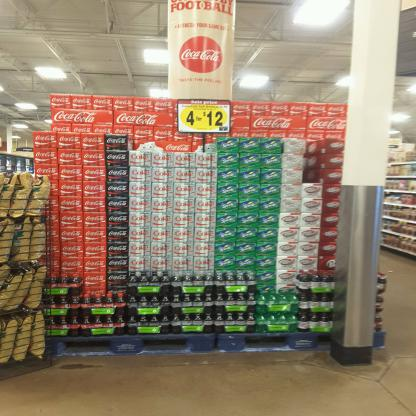Void: (130, 134, 212, 152), (306, 142, 319, 184)
